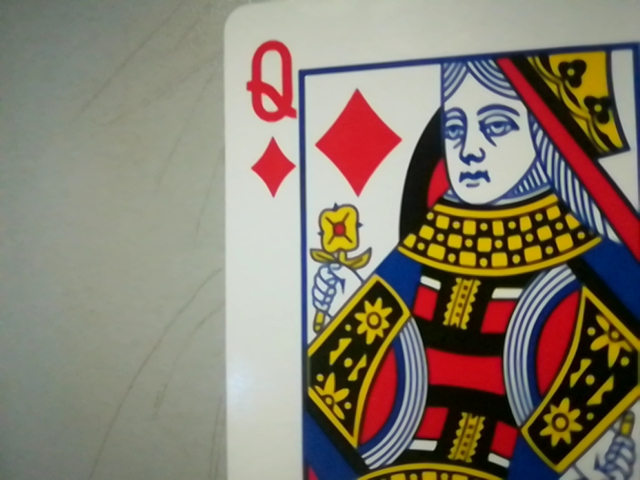fk q: (237, 27, 305, 200)
